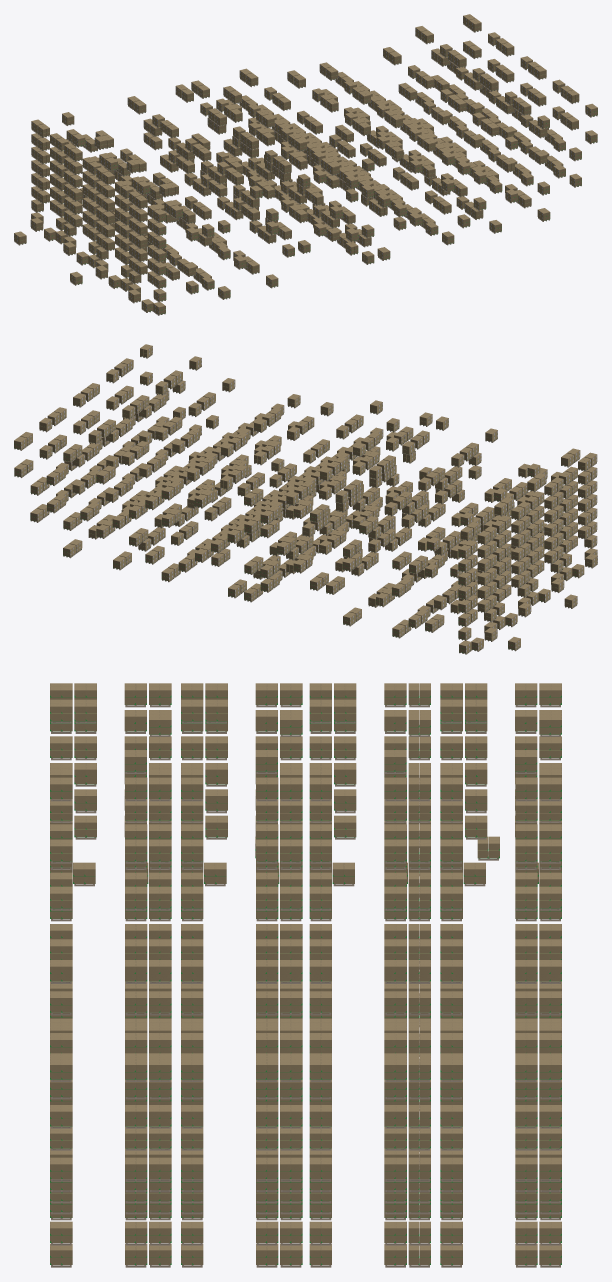
The model's file is SND_zhiXaing2.glb.
3 views of the same model, one above another, from view 1: azimuth 30°, elevation 25°; view 2: azimuth 150°, elevation 25°; view 3: azimuth 270°, elevation 25° (orthographic). The views are drawn at different scales.
Size of the model in its own units: 61213 by 12554 by 28774.
Materials: 1 (1 with a texture image).
